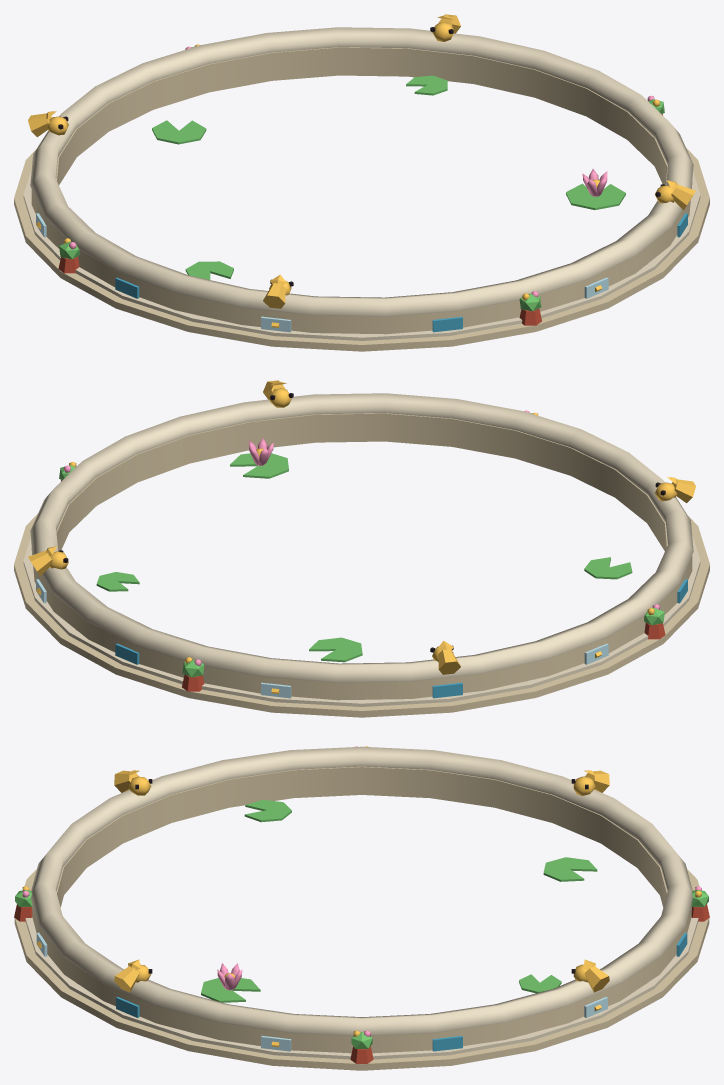
Rendered from dai-phun.glb.
The picture shows the model from 3 angles, top to bottom: view 1: azimuth 30°, elevation 25°; view 2: azimuth 150°, elevation 25°; view 3: azimuth 270°, elevation 25°; orthographic projection.
Visible parts, largest first — view 1: dai-phun-0, dai-phun-1, dai-phun-10, dai-phun-3, dai-phun-4, dai-phun-2, dai-phun-7, dai-phun-6, dai-phun-8; view 2: dai-phun-0, dai-phun-1, dai-phun-10, dai-phun-3, dai-phun-4, dai-phun-2, dai-phun-7, dai-phun-6, dai-phun-8; view 3: dai-phun-0, dai-phun-1, dai-phun-10, dai-phun-3, dai-phun-4, dai-phun-2, dai-phun-6, dai-phun-7, dai-phun-8.
Boxes of the visible parts, x1,y1,x2,y2 form: dai-phun-0: [14, 47, 709, 351]; dai-phun-1: [23, 27, 700, 340]; dai-phun-10: [152, 75, 625, 279]; dai-phun-3: [28, 14, 695, 327]; dai-phun-4: [115, 213, 687, 332]; dai-phun-2: [36, 213, 608, 332]; dai-phun-7: [59, 47, 664, 311]; dai-phun-6: [58, 114, 662, 325]; dai-phun-8: [69, 46, 654, 297]; dai-phun-0: [14, 413, 709, 717]; dai-phun-1: [23, 393, 700, 706]; dai-phun-10: [96, 453, 632, 662]; dai-phun-3: [28, 380, 695, 693]; dai-phun-4: [115, 579, 687, 698]; dai-phun-2: [36, 579, 608, 698]; dai-phun-7: [59, 413, 664, 677]; dai-phun-6: [61, 480, 665, 691]; dai-phun-8: [64, 410, 659, 666]; dai-phun-0: [14, 766, 709, 1070]; dai-phun-1: [25, 746, 698, 1059]; dai-phun-10: [201, 799, 597, 1002]; dai-phun-3: [37, 770, 609, 1047]; dai-phun-4: [116, 932, 687, 1051]; dai-phun-2: [36, 932, 607, 1051]; dai-phun-6: [14, 904, 709, 1063]; dai-phun-7: [15, 890, 708, 1048]; dai-phun-8: [22, 746, 701, 1036].
Bounding box in the file's own units: 9.5 × 0.8871 × 9.52.
